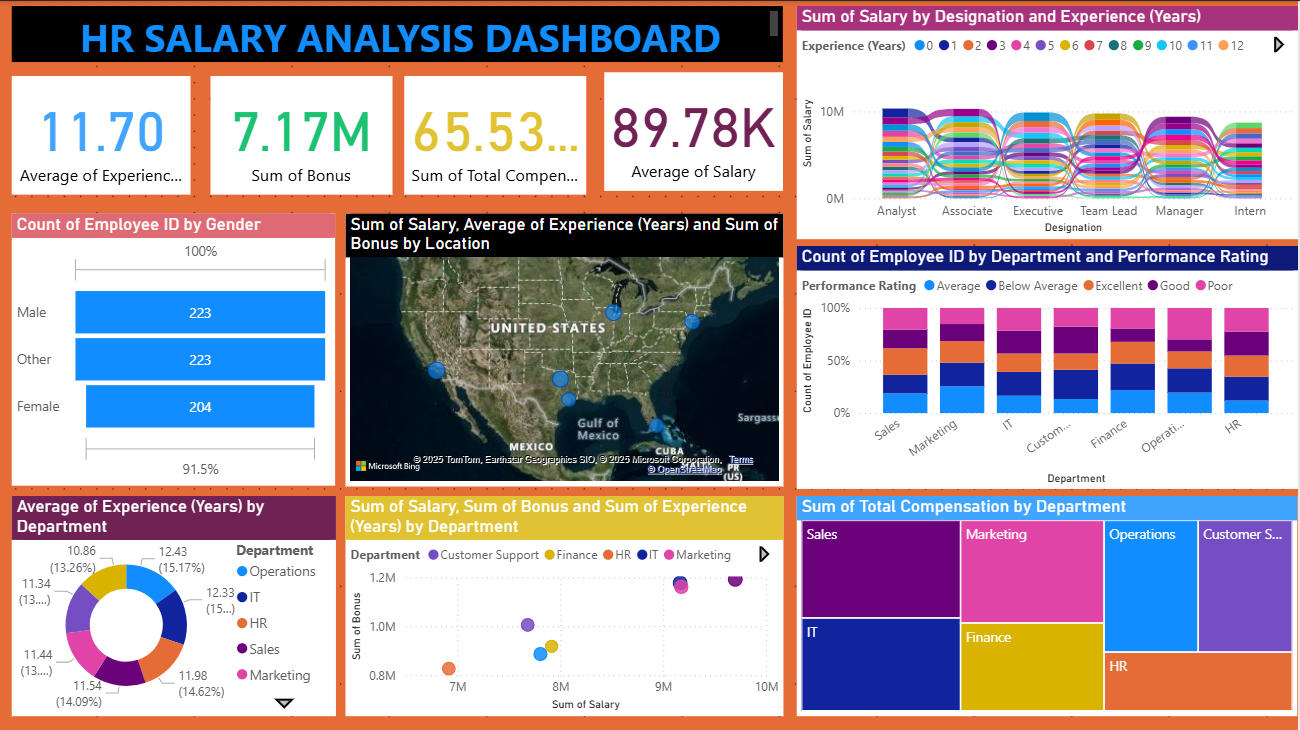

Layout of this report page (visuals, bound fields, positions):
{"tool":"powerbi","page":{"name":"Page 2","canvas":[1280,720],"ordinal":1},"visuals":[{"type":"card","fields":{"Values":["Avg(Sheet1.Salary)"]},"box":[597.3,70.7,176,116.9],"z":0},{"type":"card","fields":{"Values":["Sum(Sheet1.Total Compensation)"]},"box":[399.6,73.6,178.9,116.9],"z":1000},{"type":"card","fields":{"Values":["Sum(Sheet1.Bonus)"]},"box":[209.2,73.6,178.9,116.9],"z":2000},{"type":"card","fields":{"Values":["Avg(Sheet1.Experience (Years))"]},"box":[13.5,73.8,176,116.9],"z":3000},{"type":"ribbonChart","fields":{"Series":["Sheet1.Experience (Years)"],"Category":["Sheet1.Designation"],"Y":["Sum(Sheet1.Salary)"]},"box":[786.3,4.3,493.4,229.4],"z":4000},{"type":"treemap","fields":{"Values":["Sum(Sheet1.Total Compensation)"],"Group":["Sheet1.Department"]},"box":[786.9,487.3,493.1,216.7],"z":5000},{"type":"map","fields":{"Category":["Sheet1.Location"],"Size":["Sum(Sheet1.Salary)"]},"box":[341.9,209.2,431.4,268.4],"z":6000},{"type":"scatterChart","fields":{"X":["Sum(Sheet1.Salary)"],"Y":["Sum(Sheet1.Bonus)"],"Series":["Sheet1.Department"],"Size":["Sum(Sheet1.Experience (Years))"]},"box":[341.9,487.7,431.4,216.4],"z":7000},{"type":"hundredPercentStackedColumnChart","fields":{"Category":["Sheet1.Department"],"Y":["CountNonNull(Sheet1.Employee ID)"],"Series":["Sheet1.Performance Rating"]},"box":[786.3,240.9,493.4,239.5],"z":8000},{"type":"donutChart","fields":{"Category":["Sheet1.Department"],"Y":["Avg(Sheet1.Experience (Years))"]},"box":[13,487.7,318.9,216.4],"z":9000},{"type":"funnel","fields":{"Y":["CountNonNull(Sheet1.Employee ID)"],"Category":["Sheet1.Gender"]},"box":[13.5,209.2,318.8,268.3],"z":10000},{"type":"textbox","box":[13.5,4.9,759.4,55.4],"z":11000}]}

Visuals, with their boxes in screenshot pixels (x1, y1, x2, y2), scaled from the page's 1280x720 canvas onto the 1300x730 screenshot:
card - Avg(Sheet1.Salary): Rect(607, 72, 785, 190)
card - Sum(Sheet1.Total Compensation): Rect(406, 75, 588, 193)
card - Sum(Sheet1.Bonus): Rect(212, 75, 394, 193)
card - Avg(Sheet1.Experience (Years)): Rect(14, 75, 192, 193)
ribbonChart - Sheet1.Experience (Years) x Sheet1.Designation: Rect(799, 4, 1299, 237)
treemap - Sum(Sheet1.Total Compensation) x Sheet1.Department: Rect(799, 494, 1299, 714)
map - Sheet1.Location x Sum(Sheet1.Salary): Rect(347, 212, 785, 484)
scatterChart - Sum(Sheet1.Salary) x Sum(Sheet1.Bonus): Rect(347, 494, 785, 714)
hundredPercentStackedColumnChart - Sheet1.Department x CountNonNull(Sheet1.Employee ID): Rect(799, 244, 1299, 487)
donutChart - Sheet1.Department x Avg(Sheet1.Experience (Years)): Rect(13, 494, 337, 714)
funnel - CountNonNull(Sheet1.Employee ID) x Sheet1.Gender: Rect(14, 212, 337, 484)
textbox: Rect(14, 5, 785, 61)
